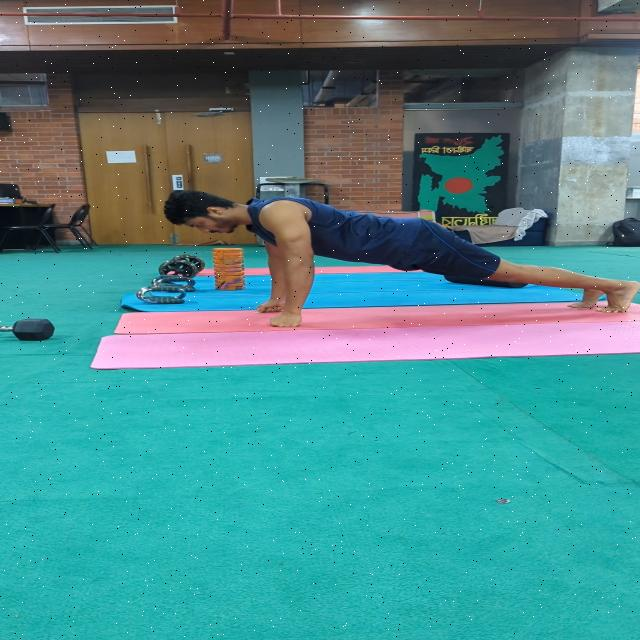Normal_PushUps: (139, 185, 640, 320)
